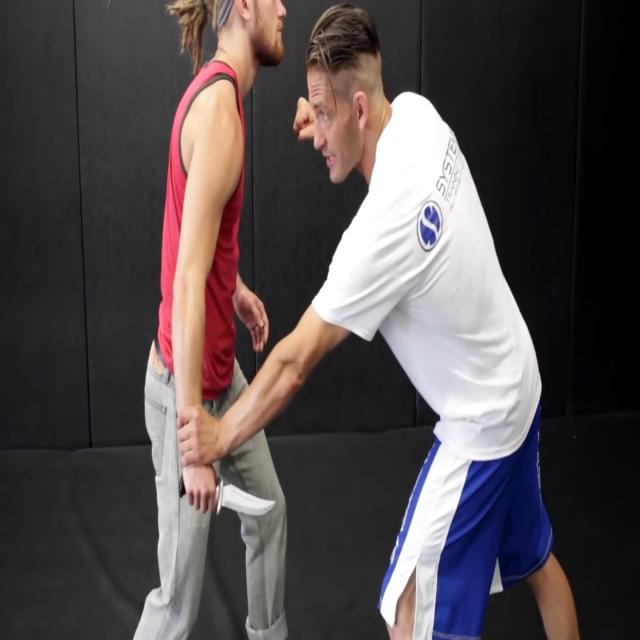knife: (216, 474, 278, 531)
